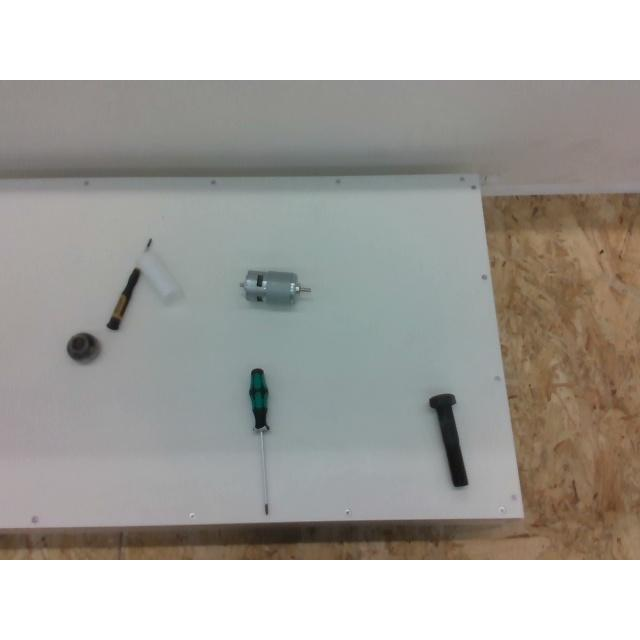Bearing2: (66, 332, 100, 363)
M20_100: (429, 394, 467, 486)
Motor2: (242, 270, 310, 306)
Screwdriver: (249, 368, 269, 516)
Spacer: (136, 248, 184, 304)
